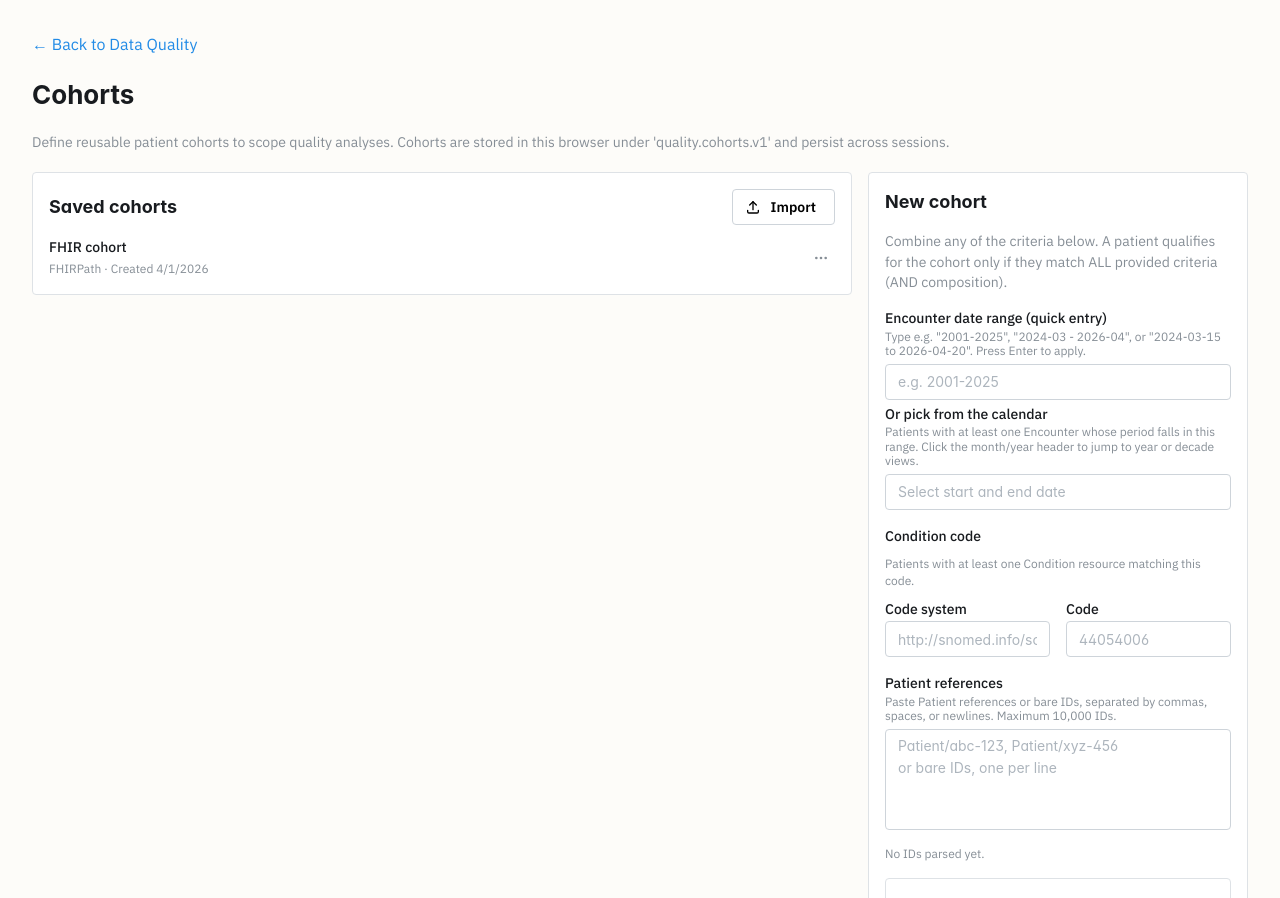
Test: CohortsPage › row menu has 3 items (Edit, Duplicate, Delete) when cohort contains a FHIRPath criterion (Export disabled)
The width and height of the screenshot is (1280, 898).
What coordinates should you click on to do the following:
click the button named "actions for cohort \"FHIR cohort\""
I would click on:
 (821, 258)
Its box is [807,244,835,272].
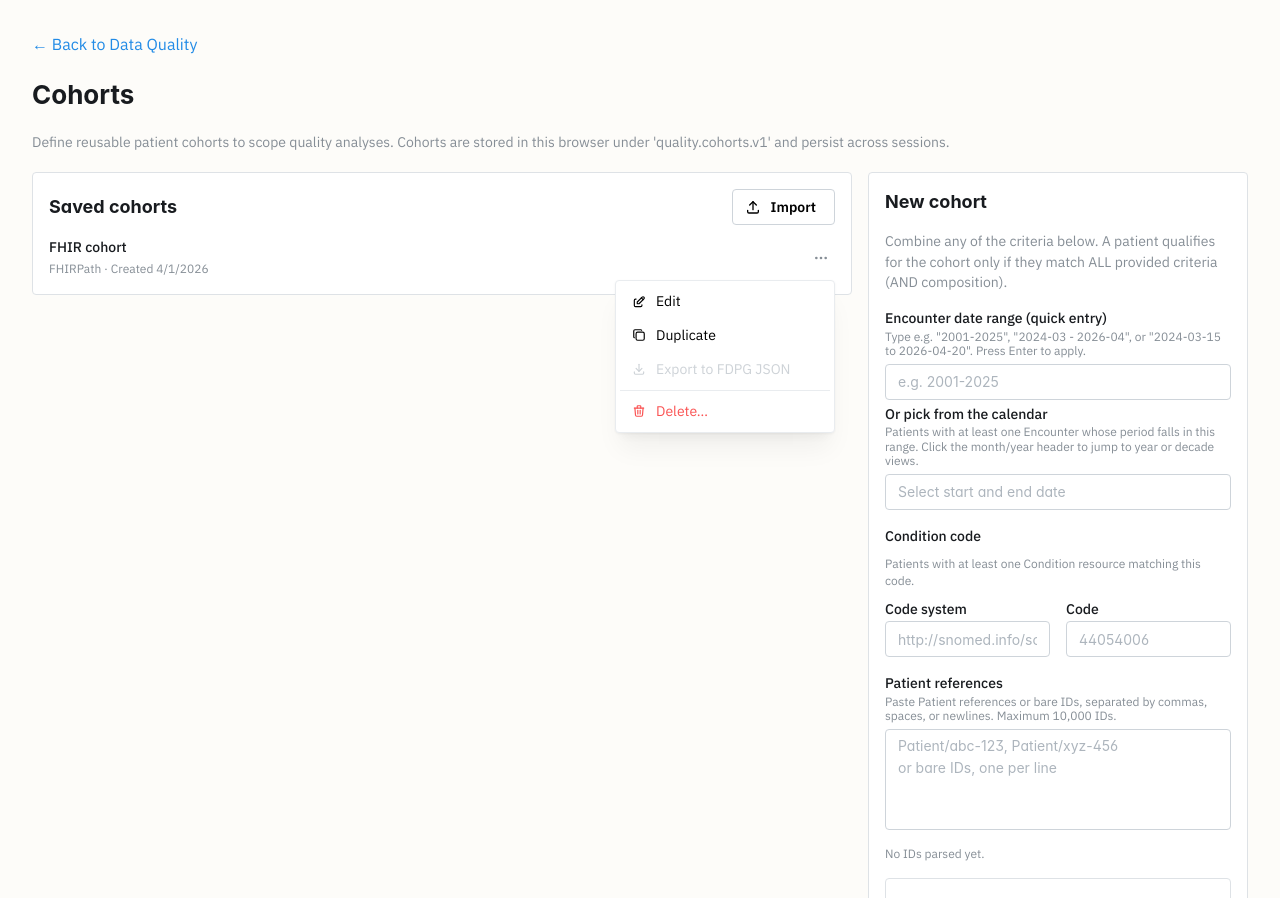
Expected: the menu item "Edit" is shown, [620,285,830,318]
Expected: the menu item "Duplicate" is shown, [620,318,830,352]
Expected: the menu item "Delete…" is shown, [620,395,830,428]
